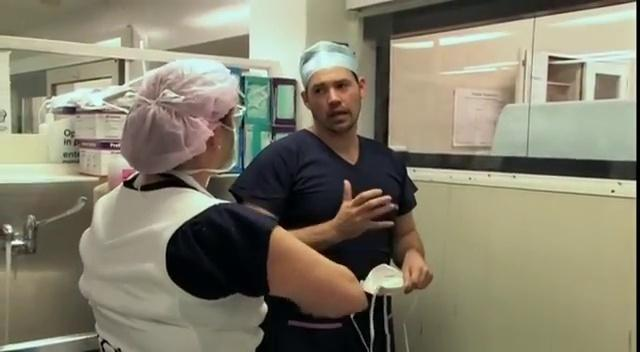others: (77, 46, 272, 352), (260, 34, 421, 212)
